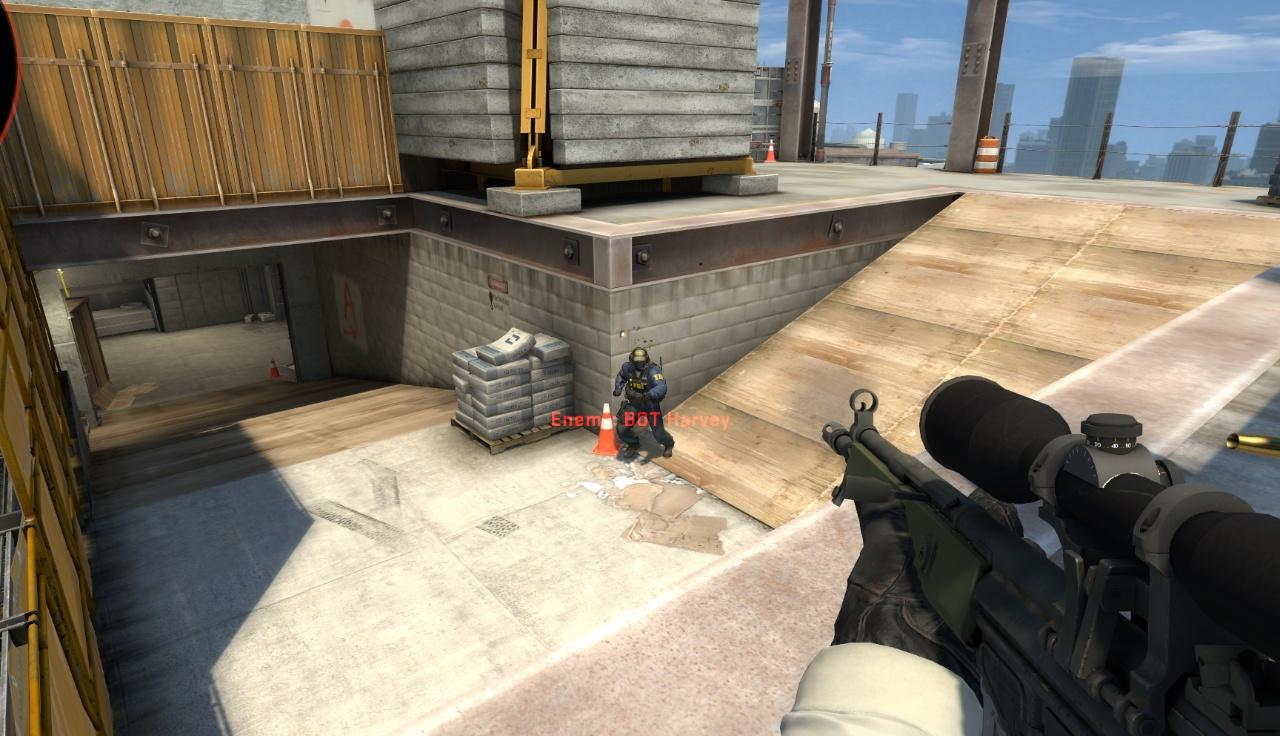ct: (611, 346, 673, 459)
cthead: (629, 348, 650, 369)
sniper: (815, 375, 1280, 734)
